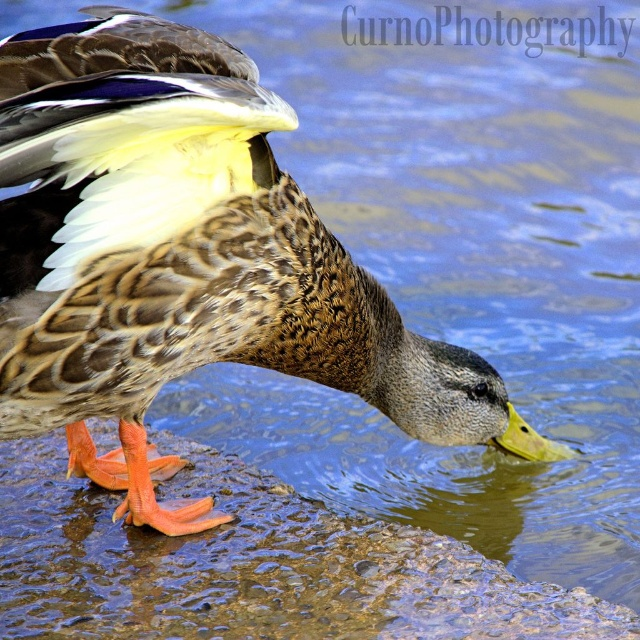Duck: (0, 30, 550, 520)
